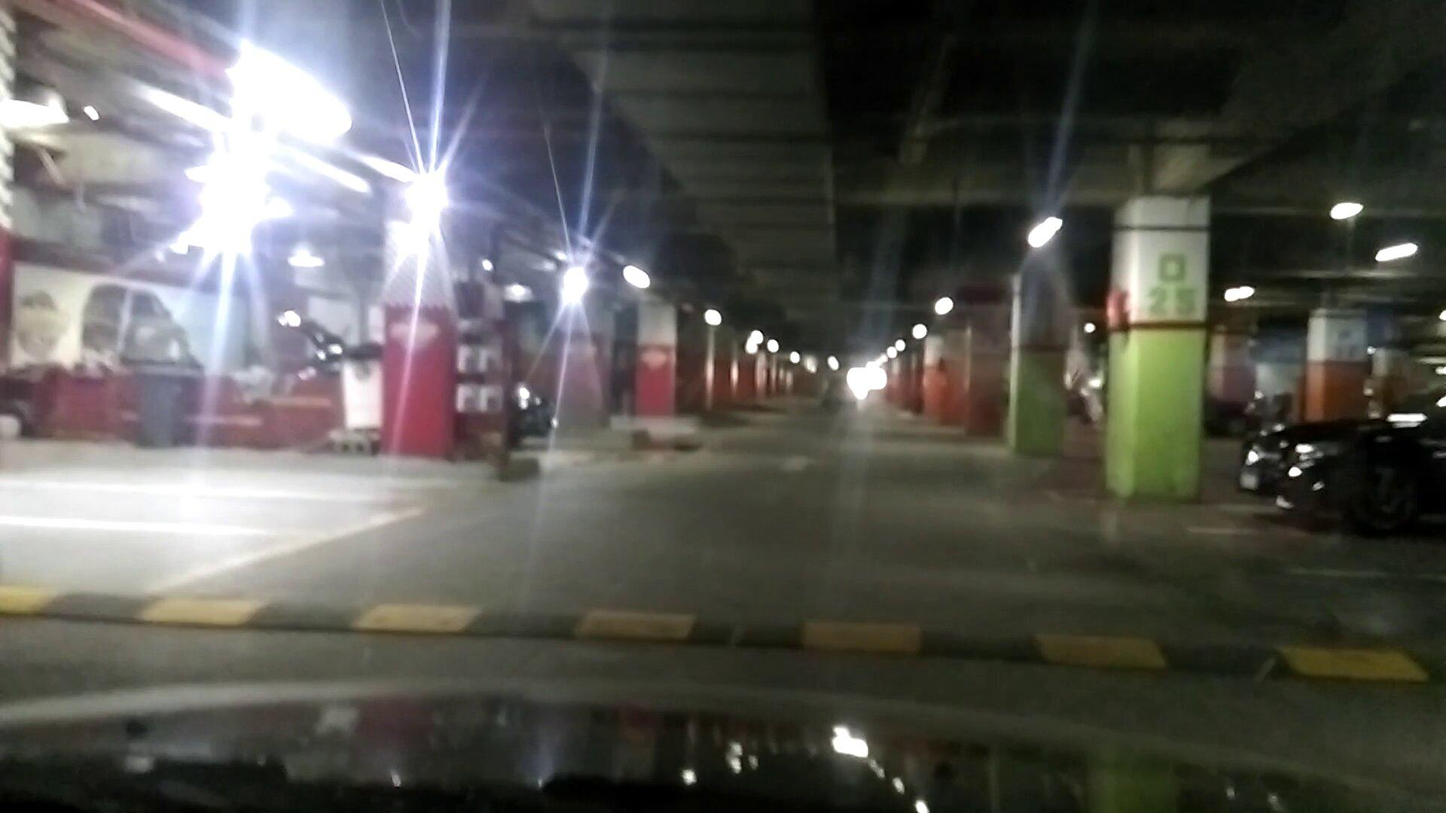Bump: (8, 566, 1446, 713)
